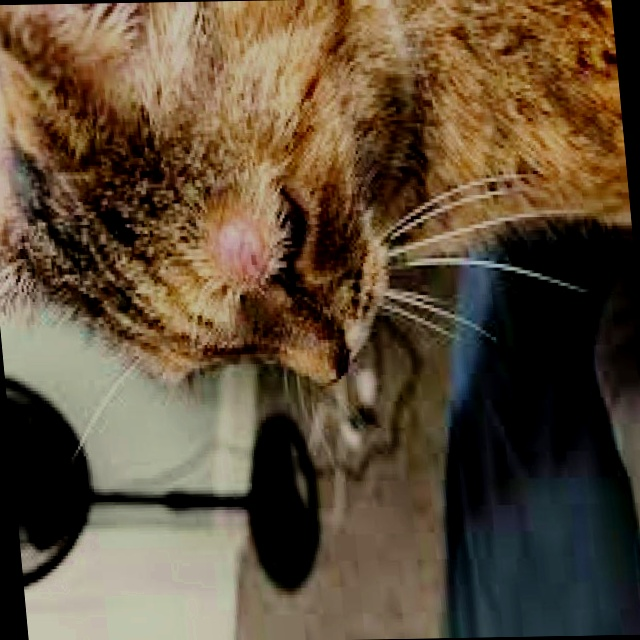lump_and_bump: (202, 215, 279, 299)
